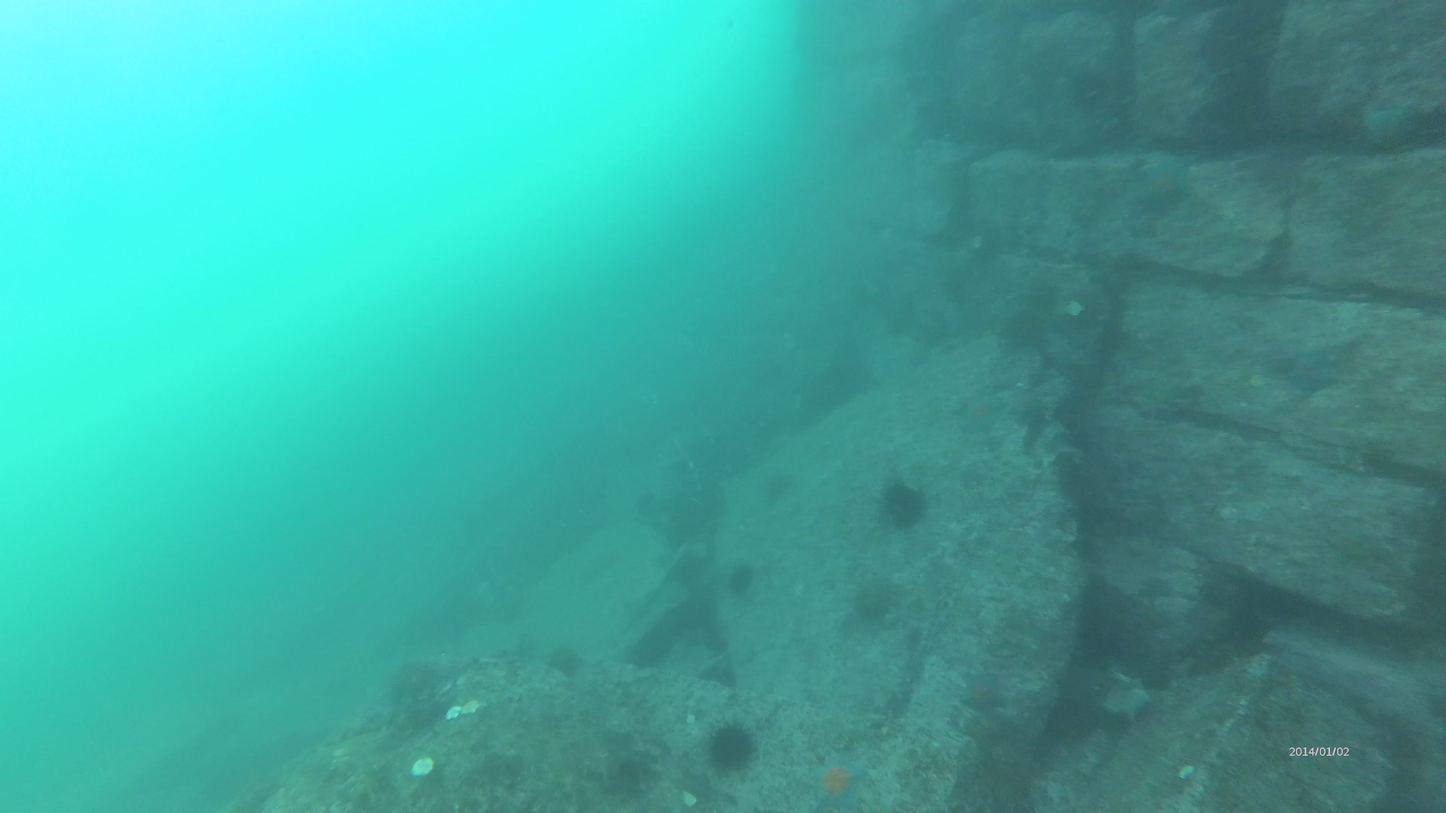holothurian: (801, 749, 875, 801)
starfish: (702, 726, 755, 772), (839, 578, 892, 623), (885, 486, 923, 521), (546, 647, 582, 679), (725, 559, 752, 594)
